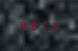eight: (18, 19, 27, 30), (28, 19, 37, 30)
five: (48, 20, 57, 31)
seven: (38, 19, 47, 31)
